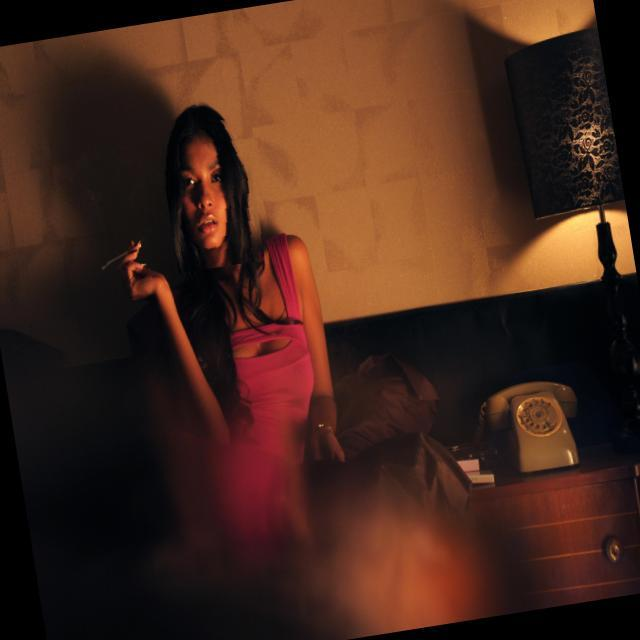cigarette: (86, 230, 152, 291)
